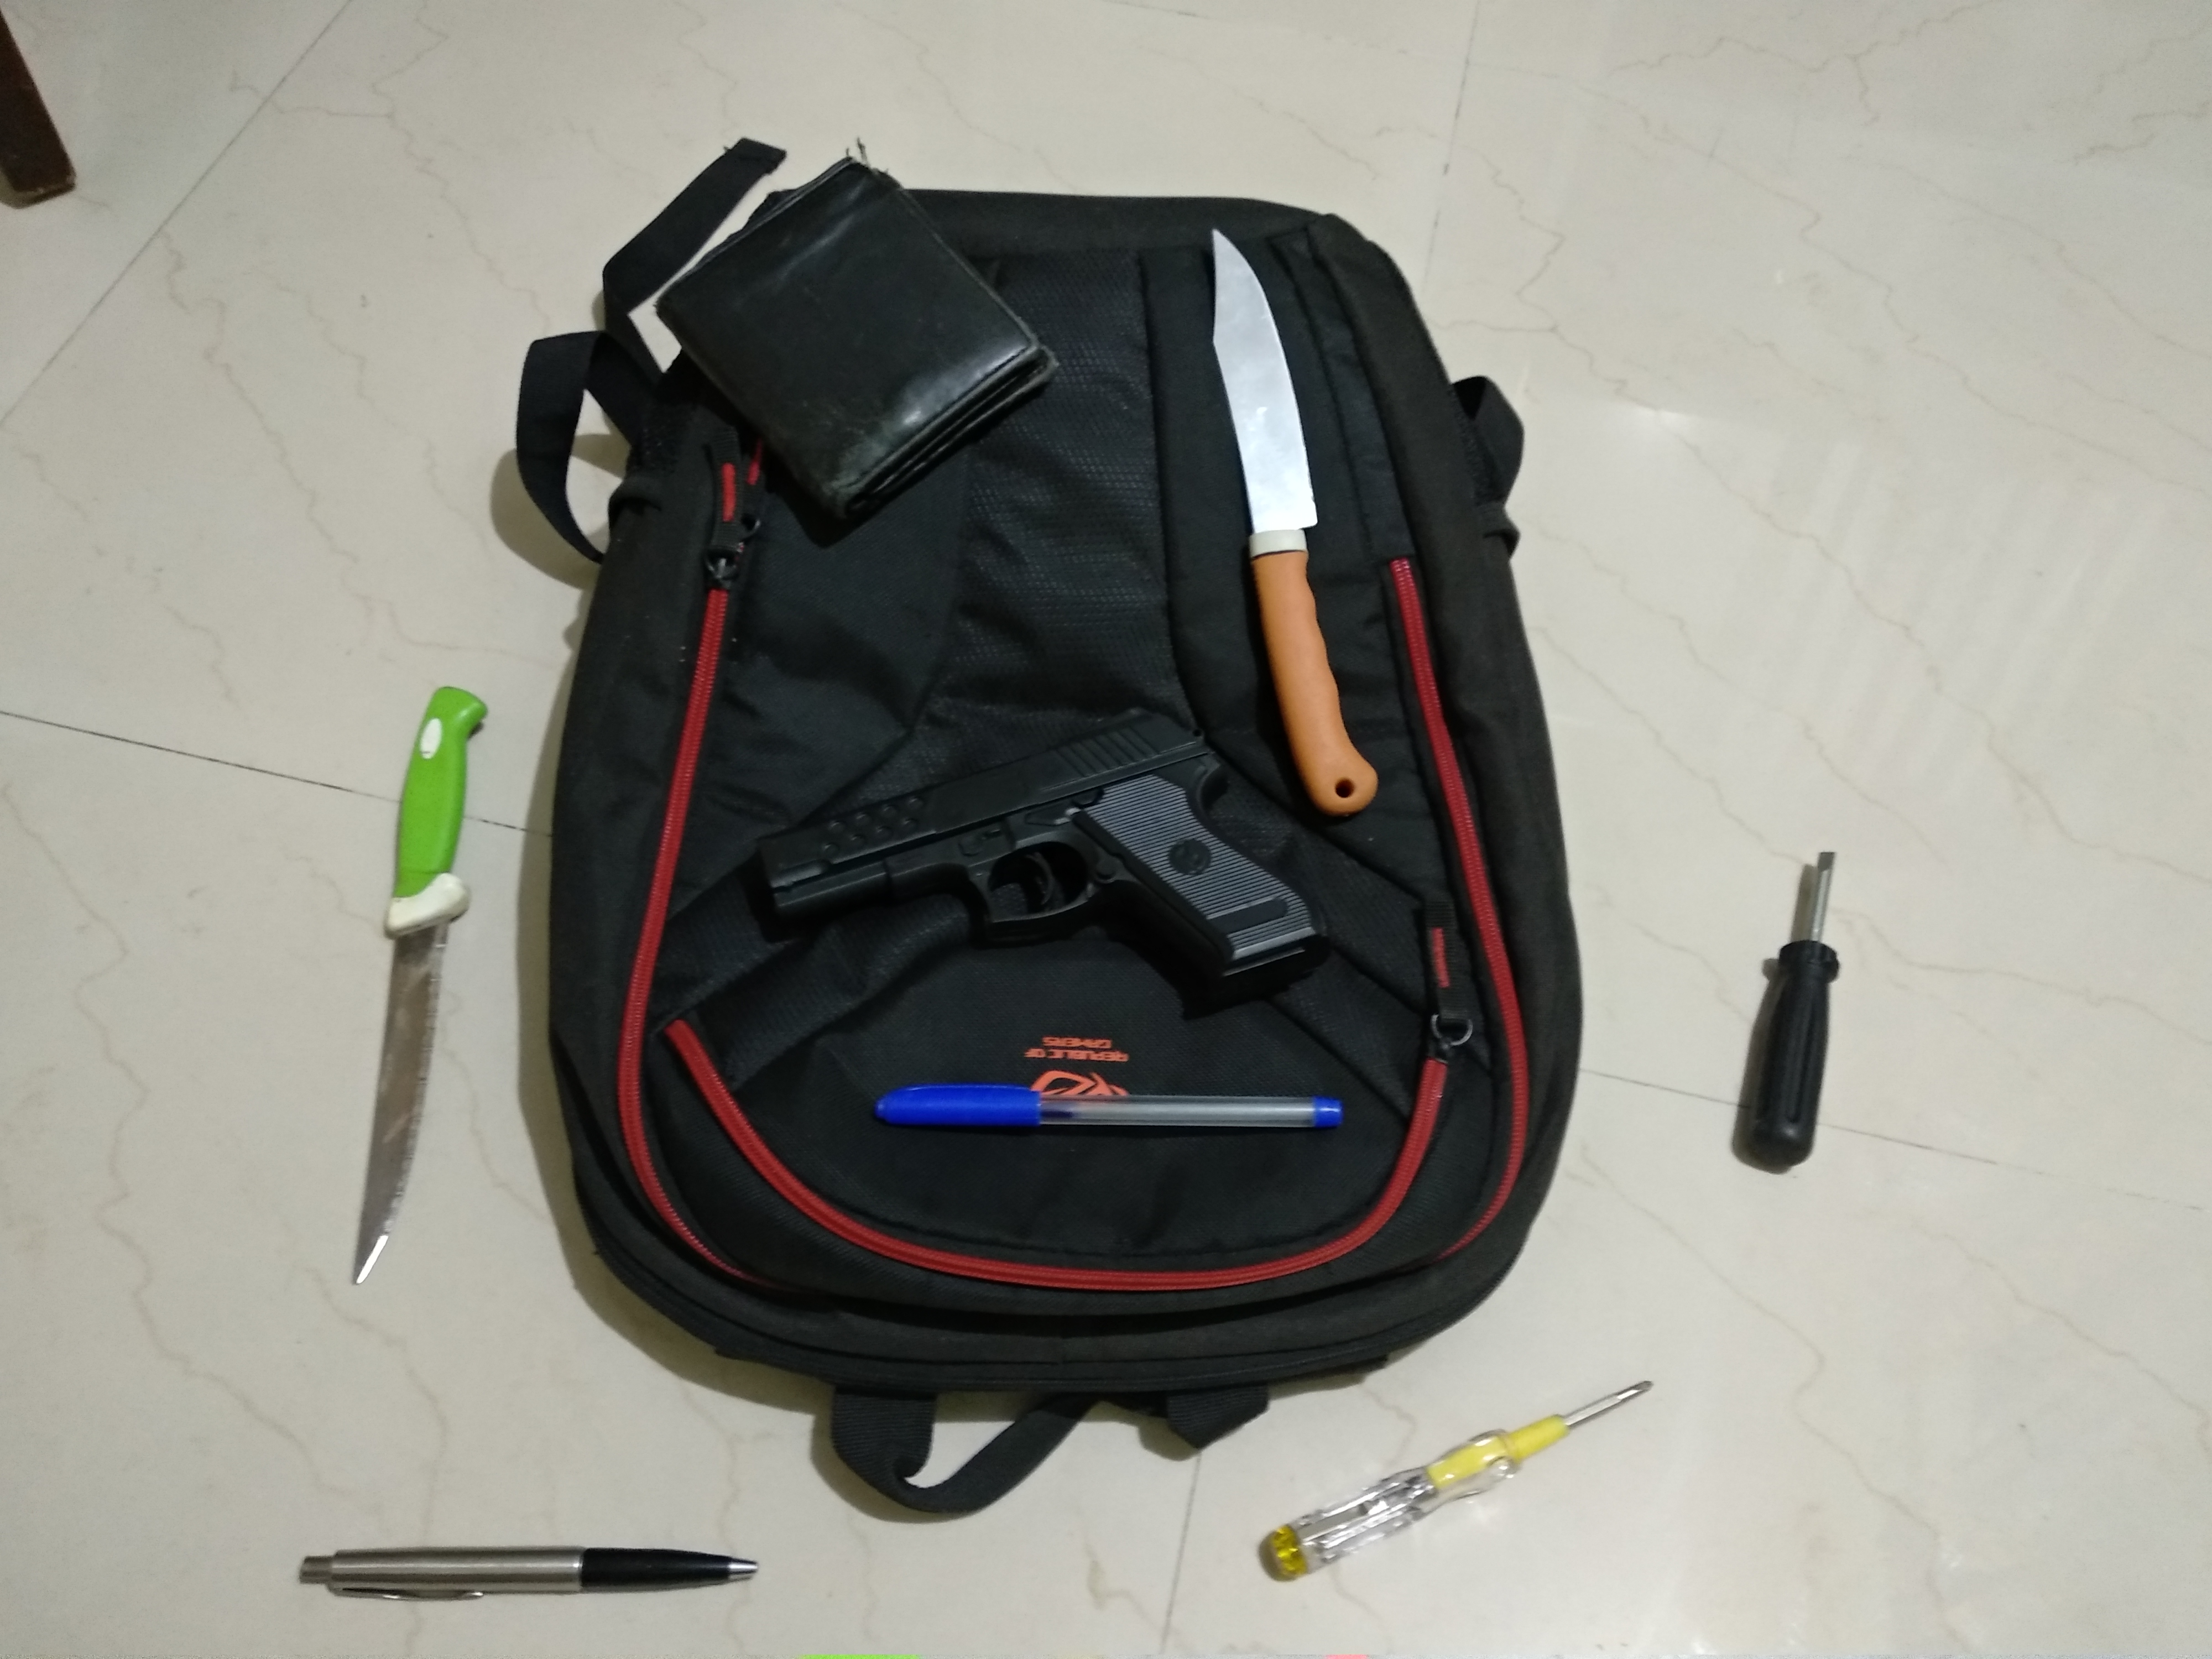gun: (745, 690, 1360, 990)
knife: (1198, 223, 1406, 830), (320, 678, 507, 1298)
none: (277, 1539, 770, 1610), (876, 1091, 1360, 1136)
none2: (672, 136, 1017, 518)
none3: (1238, 1359, 1658, 1598), (1714, 819, 1874, 1201)
